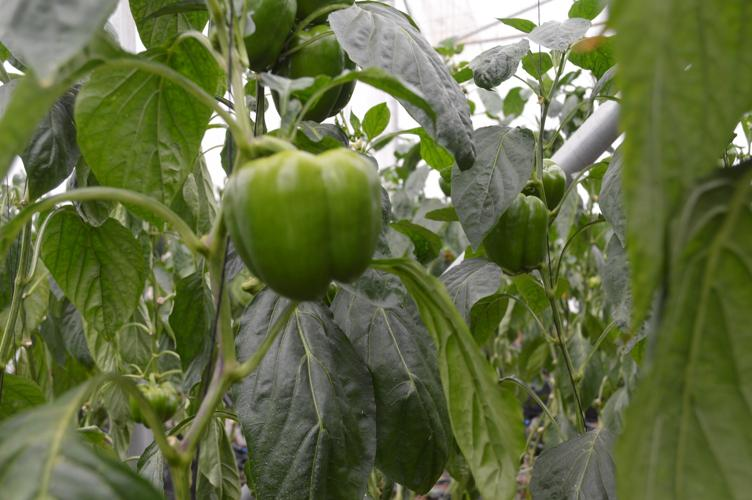BellPepper: (220, 140, 372, 292), (265, 25, 369, 129), (473, 202, 554, 283)
